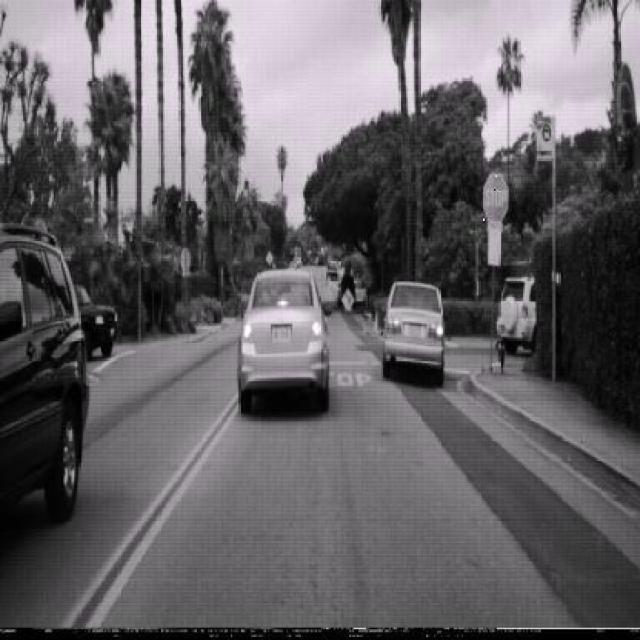stop: (483, 172, 509, 224)
